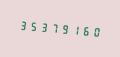five: (27, 17, 36, 34)
nine: (57, 19, 66, 37)
one: (67, 20, 76, 38)
seven: (47, 18, 56, 36)
six: (77, 21, 86, 39)
three: (17, 16, 26, 34), (37, 18, 46, 35)
zero: (87, 22, 96, 40)
